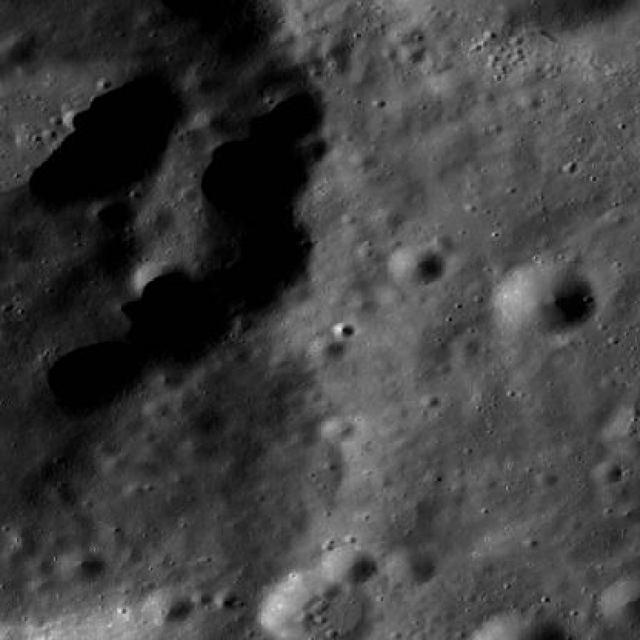crater: (0, 55, 182, 216), (490, 260, 593, 337), (260, 79, 325, 127), (386, 80, 448, 126), (132, 256, 192, 302), (383, 243, 442, 286), (322, 546, 376, 586), (485, 139, 538, 178), (144, 584, 193, 622), (55, 548, 103, 584), (387, 548, 433, 584), (430, 120, 476, 156), (428, 67, 474, 101), (90, 196, 132, 227), (0, 33, 38, 66), (136, 204, 176, 233), (348, 164, 388, 193), (307, 332, 344, 360), (178, 436, 214, 462), (186, 70, 222, 96), (321, 416, 356, 442), (596, 298, 630, 324), (150, 367, 184, 393), (202, 240, 235, 265), (390, 22, 422, 47), (298, 136, 331, 159), (590, 460, 622, 483), (190, 370, 222, 393), (322, 36, 353, 59), (62, 106, 92, 129), (197, 109, 226, 131), (349, 288, 378, 310), (542, 573, 570, 595), (602, 482, 630, 504), (213, 588, 239, 608), (378, 208, 404, 228), (351, 149, 377, 169), (450, 334, 476, 354), (142, 436, 168, 456), (296, 42, 322, 62), (377, 284, 403, 302), (400, 44, 426, 62), (50, 484, 75, 502), (516, 92, 541, 110), (140, 9, 166, 26), (618, 501, 640, 521), (8, 520, 32, 538), (104, 457, 128, 475), (606, 208, 628, 226), (432, 234, 454, 252), (146, 399, 169, 416), (274, 30, 297, 47), (24, 556, 46, 573), (29, 574, 51, 591), (16, 537, 38, 554), (228, 346, 250, 362), (326, 59, 348, 75), (1, 550, 22, 566), (115, 299, 136, 315), (329, 321, 351, 336), (96, 441, 118, 456), (192, 588, 212, 604), (407, 496, 427, 510), (0, 0, 2, 2)
